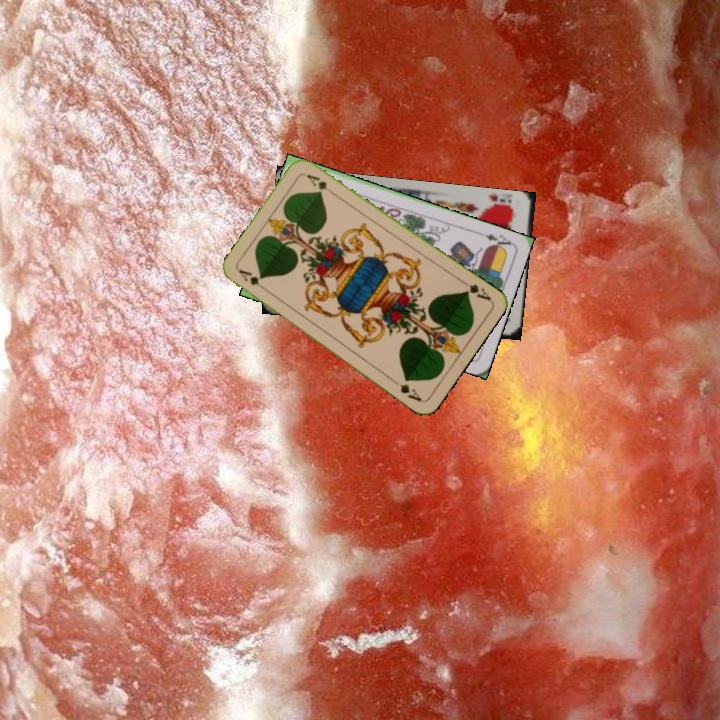EA: (476, 228, 515, 253)
GA: (234, 265, 270, 294), (457, 276, 493, 303)
HK: (480, 195, 516, 213)
